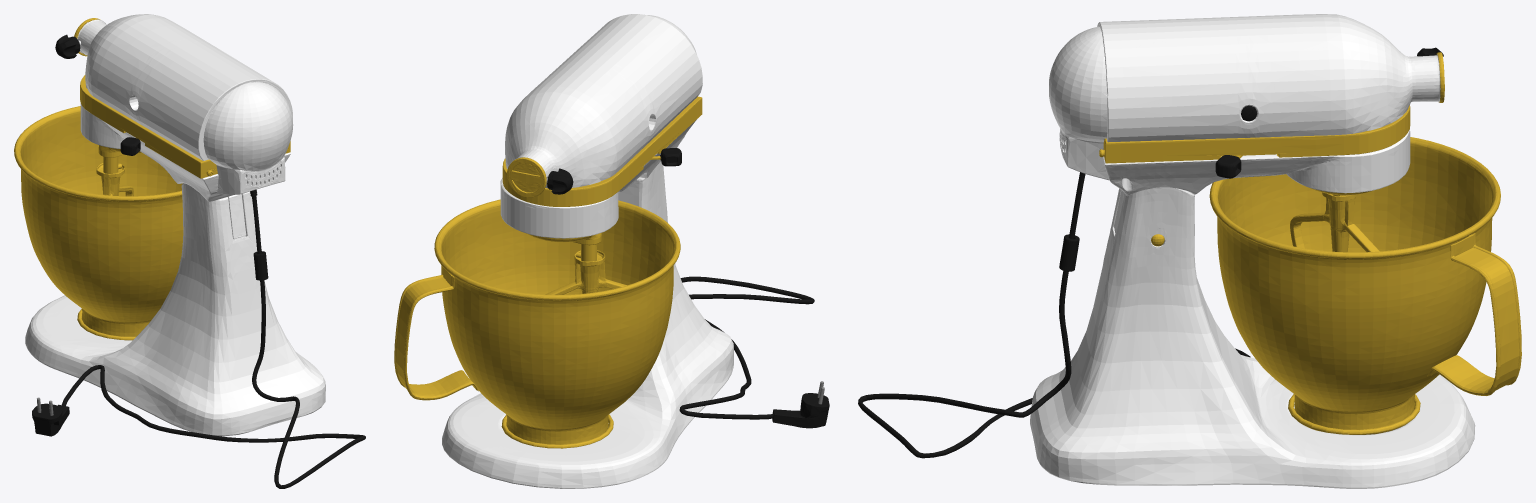
File: mixer-02.glb
The picture shows the model from 3 angles, left to right: view 1: azimuth 30°, elevation 25°; view 2: azimuth 150°, elevation 25°; view 3: azimuth 270°, elevation 25°; orthographic projection. The views are drawn at different scales.
Size of the model in its own units: 0.1138 by 0.1288 by 0.1884.
